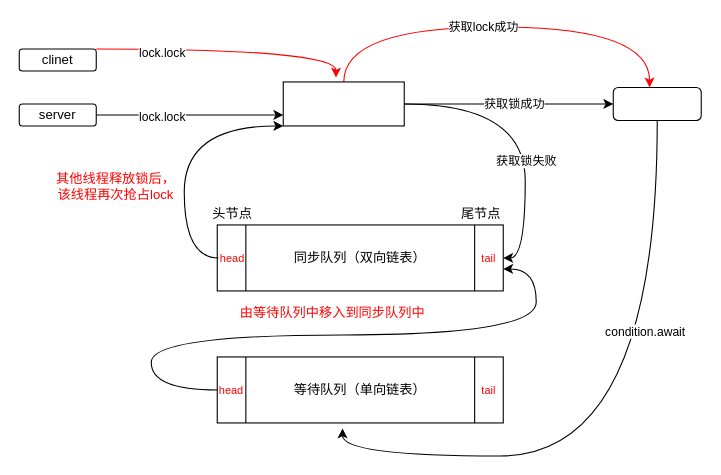
Some shapes in this 721 by 475 pixel diagram are drawn without their labels. Each missing label, with the centre of its shape:
condition: (x=656, y=103)
锁lock: (x=343, y=103)
